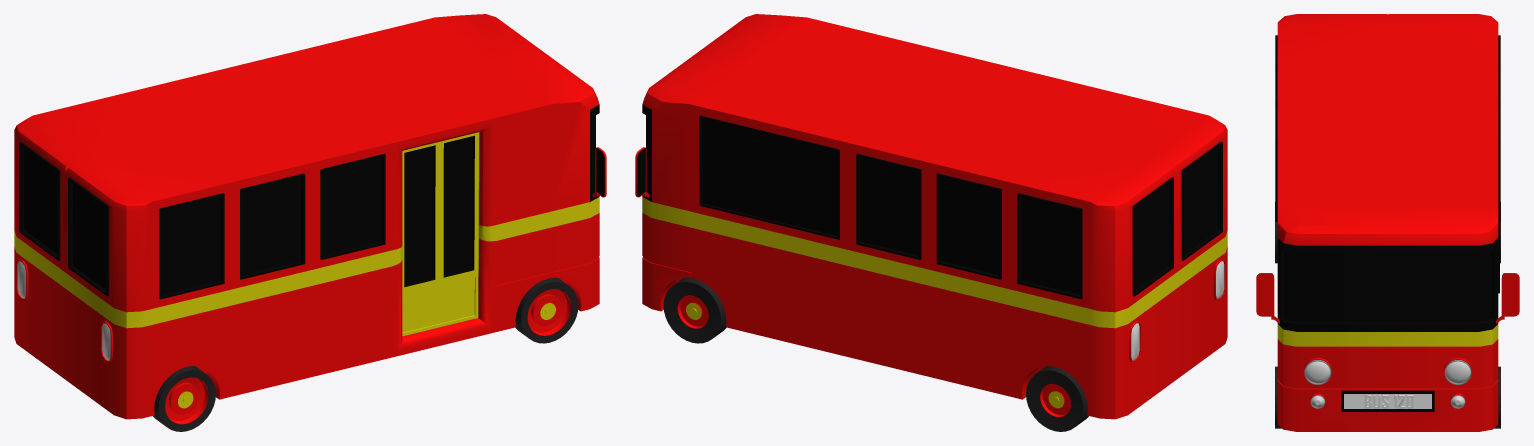
Rendered from bus1_1.fbx.
The picture shows the model from 3 angles, left to right: view 1: azimuth 30°, elevation 25°; view 2: azimuth 150°, elevation 25°; view 3: azimuth 270°, elevation 25°; orthographic projection. The views are drawn at different scales.
Visible parts, largest first — view 1: bus1_1, bus1_2, bus1_3; view 2: bus1_1, bus1_2, bus1_3; view 3: bus1_1, bus1, bus1_2.
Boxes of the visible parts, x1,y1,x2,y2 form: bus1_1: (14, 14, 606, 419); bus1_2: (515, 277, 578, 343); bus1_3: (153, 366, 215, 431); bus1_1: (635, 14, 1227, 419); bus1_2: (663, 277, 726, 343); bus1_3: (1026, 366, 1088, 431); bus1_1: (1256, 14, 1519, 431); bus1: (1364, 395, 1413, 408); bus1_2: (1275, 366, 1500, 428).
Size of the model in its own units: 976 by 450 by 486.
